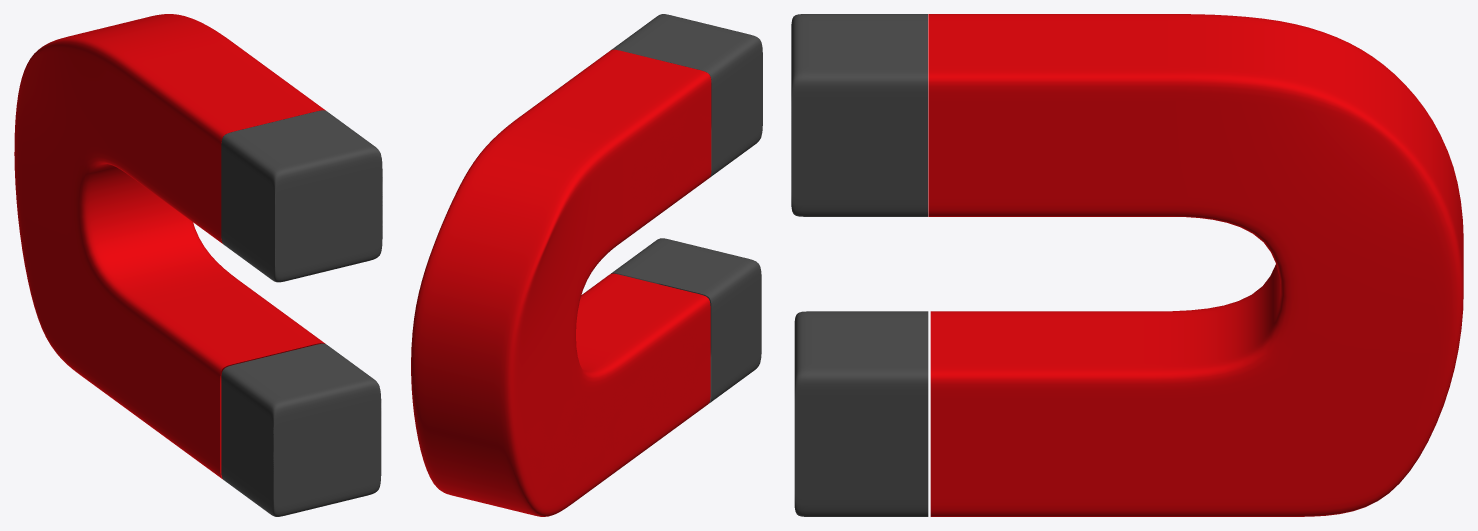
Rendered from iman.fbx.
3 renders of one model, left to right at view 1: azimuth 30°, elevation 25°; view 2: azimuth 150°, elevation 25°; view 3: azimuth 270°, elevation 25°, orthographic. The views are drawn at different scales.
Visible parts, largest first — view 1: Cube.001; view 2: Cube.001; view 3: Cube.001.
Boxes of the visible parts, box(x1,y1,x2,y2) form: Cube.001: box(14, 14, 382, 516); Cube.001: box(411, 14, 762, 516); Cube.001: box(791, 14, 1463, 516).
Size of the model in its own units: 22.64 by 66.33 by 91.13.
